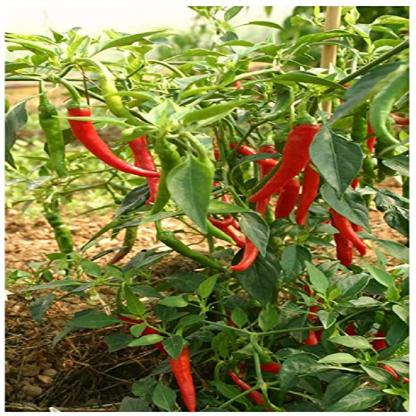chili: (51, 92, 175, 184), (228, 114, 330, 211), (156, 327, 220, 410)
